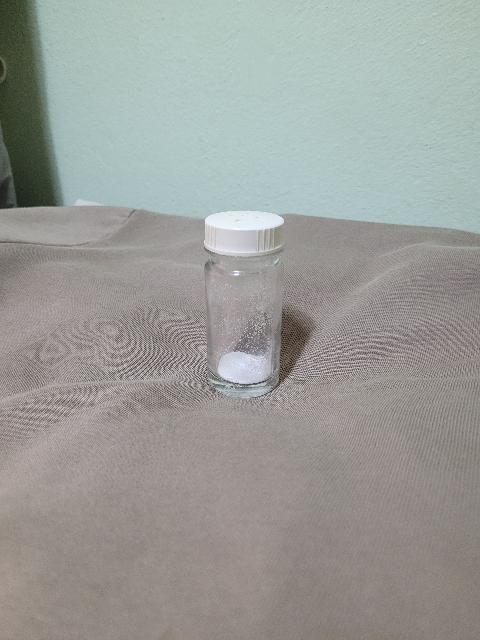Cam: (202, 256, 295, 401)
Plastik: (200, 206, 293, 257)
